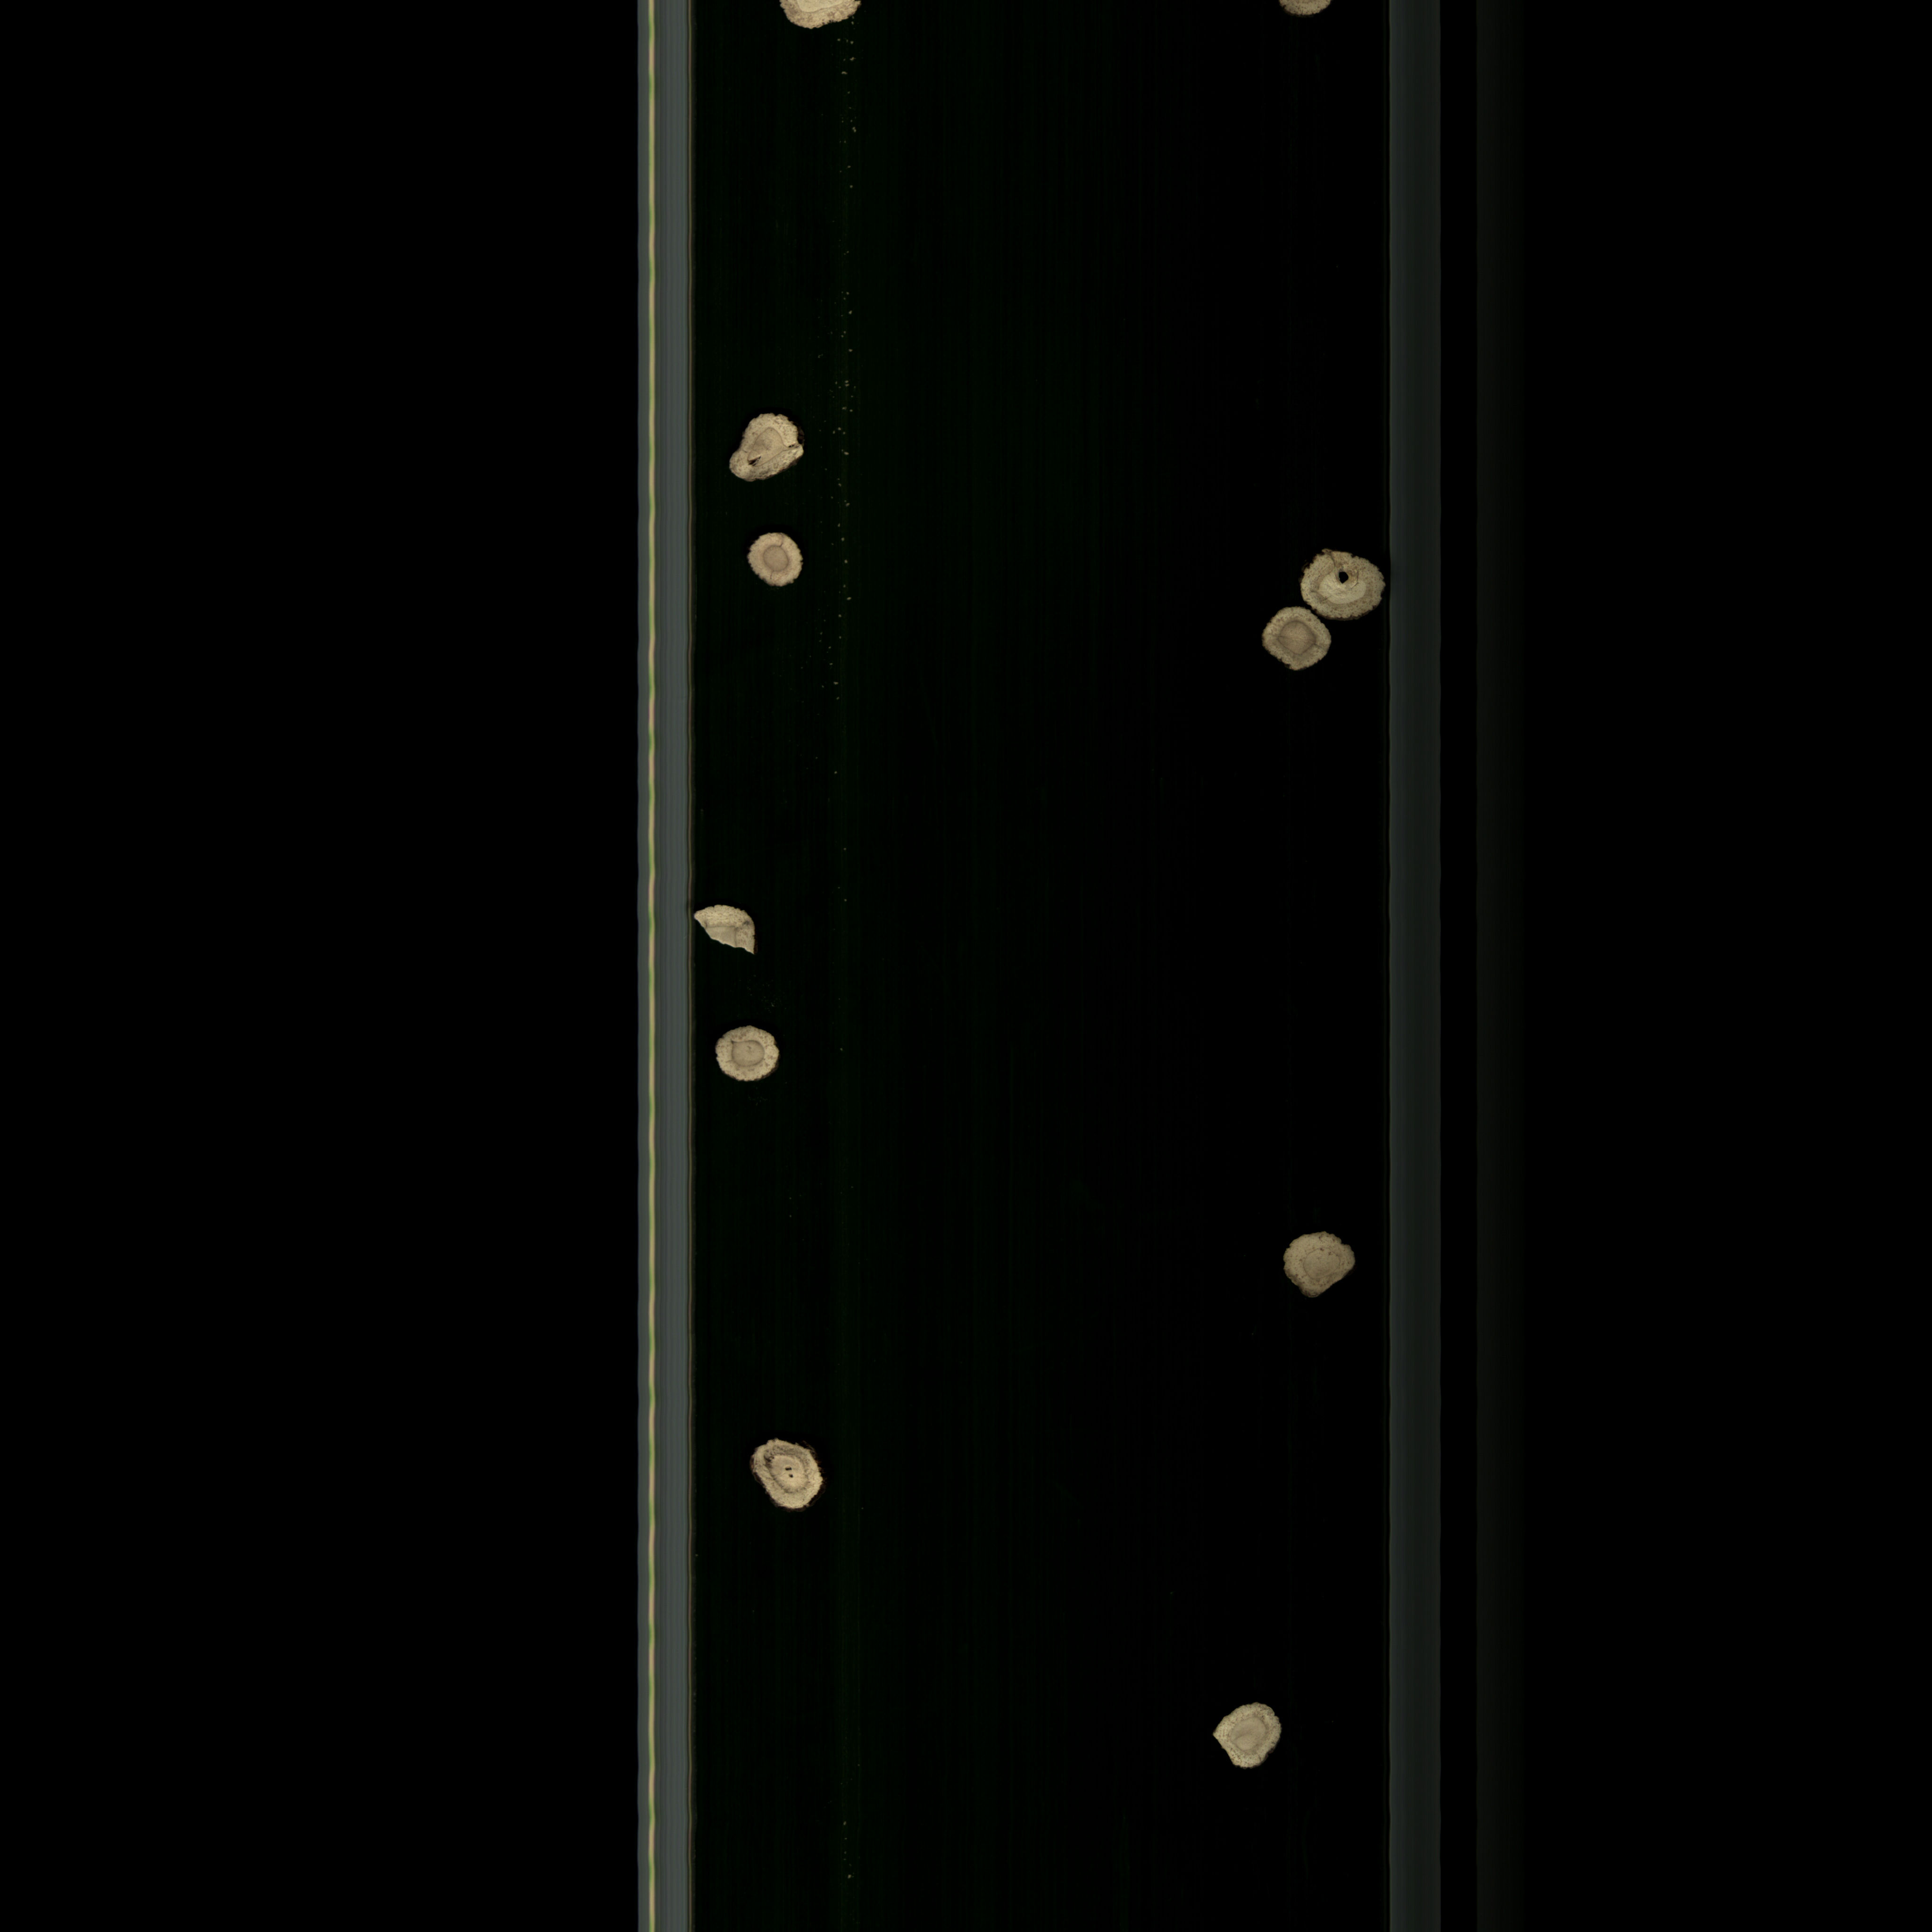debris: (1208, 1684, 1290, 1790), (692, 888, 768, 973)
hole: (736, 1426, 835, 1529)
moldy: (718, 403, 823, 494), (1274, 1219, 1368, 1309), (1295, 541, 1394, 626), (1253, 605, 1339, 686), (704, 1017, 791, 1092)
